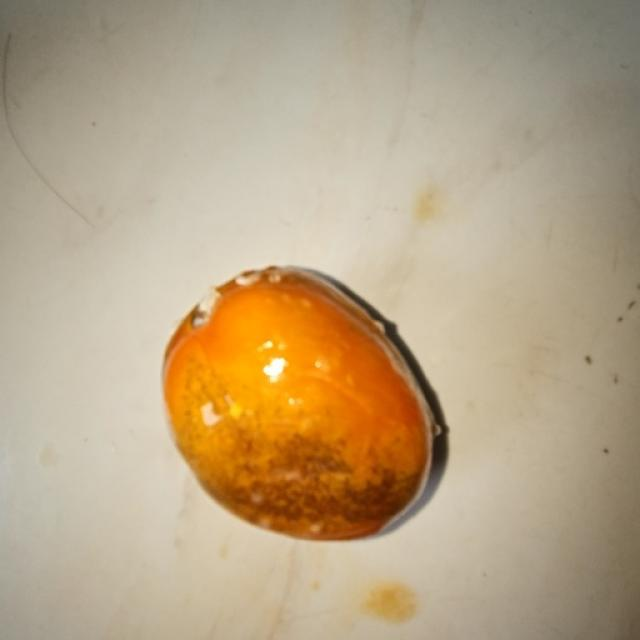Red: (160, 263, 439, 542)
